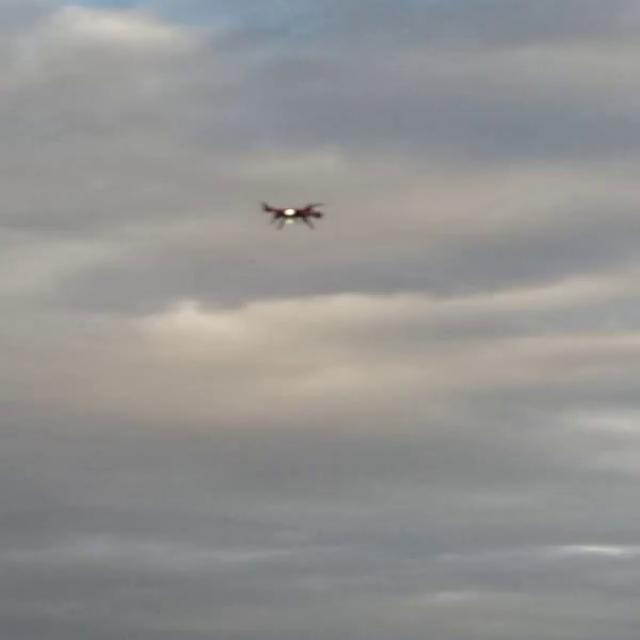drone: (256, 195, 334, 228)
